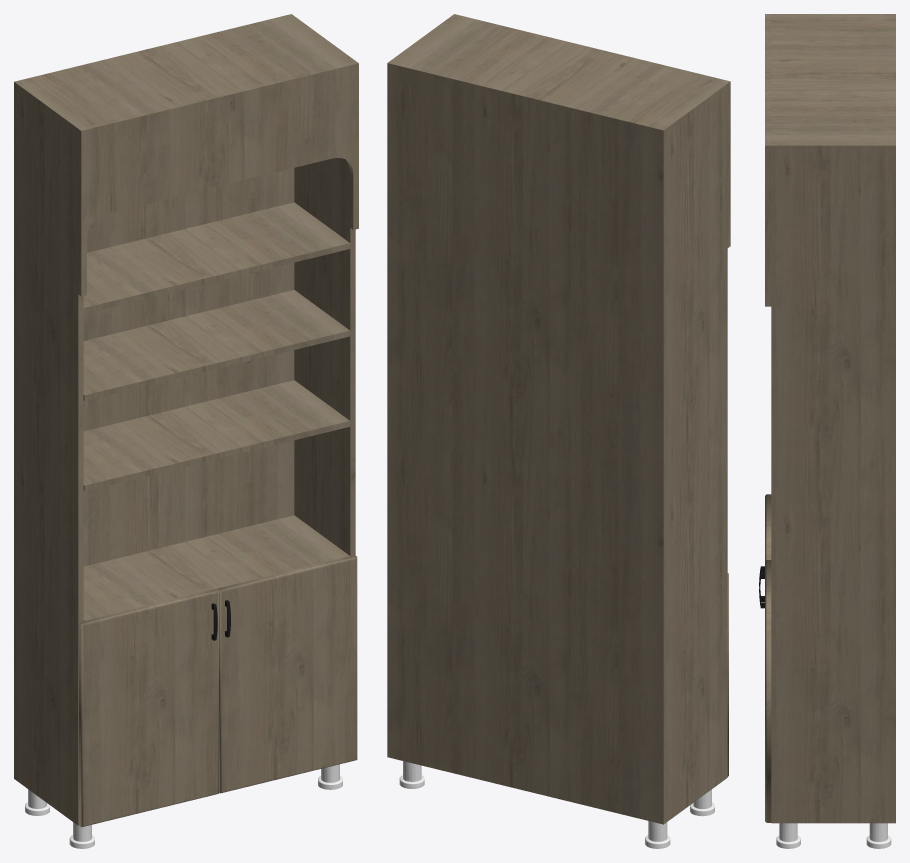
3 views of the same model, side by side, from view 1: azimuth 30°, elevation 25°; view 2: azimuth 150°, elevation 25°; view 3: azimuth 270°, elevation 25° (orthographic). The views are drawn at different scales.
Parts seen in each view (by area): view 1: Box034, Box035, Box042, Box043, Box036, Box037, Box039, Box040; view 2: Box034, Box043; view 3: Box034, Box043, Box042, Cylinder012, Cylinder013, Box035.
Part boxes in pixels (x1,y1,x2,y2): Box034: (14, 14, 355, 825); Box035: (79, 588, 218, 827); Box042: (217, 555, 357, 793); Box043: (78, 61, 358, 296); Box036: (83, 380, 350, 491); Box037: (83, 290, 350, 400); Box039: (83, 202, 350, 313); Box040: (83, 515, 349, 620); Box034: (387, 16, 727, 824); Box043: (451, 14, 730, 248); Box034: (771, 14, 895, 823); Box043: (765, 14, 771, 306); Box042: (765, 560, 771, 822); Cylinder012: (866, 823, 891, 848); Cylinder013: (776, 823, 800, 848); Box035: (765, 494, 771, 561).
Bounding box in the file's own units: 1 × 2.5 × 0.4389.
3 materials, 1 textured.
